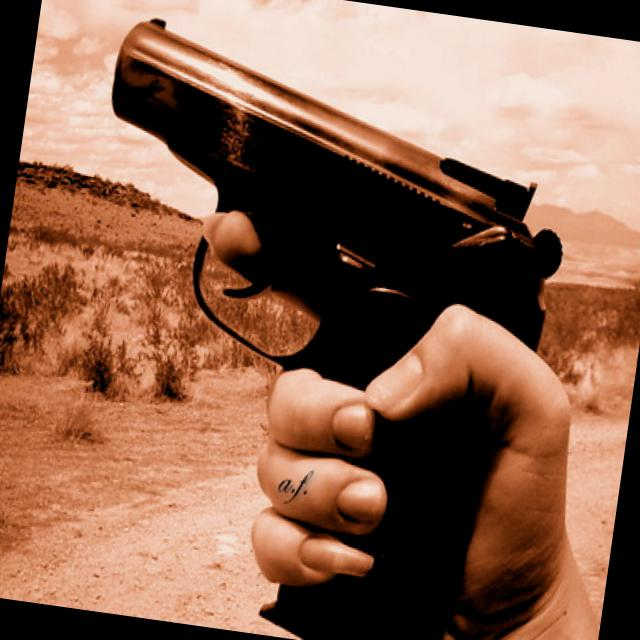handgun: (33, 1, 588, 639)
